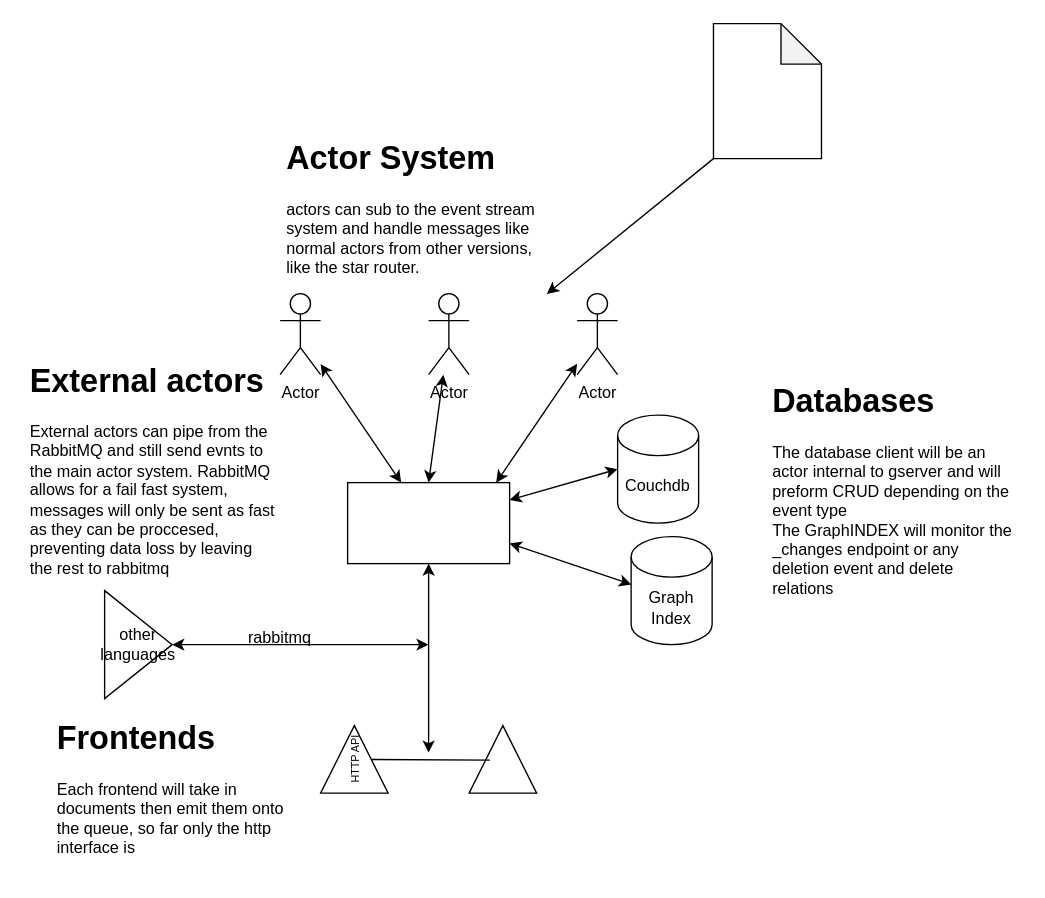
This 1045x898 diagram has some shape labels left out. The centre of each missing label's shape, as x and y in pixels:
"config file defining actors/extra functionality" belongs at (x=766, y=90).
"gserver" belongs at (x=428, y=522).
"websocket" belongs at (x=502, y=758).
